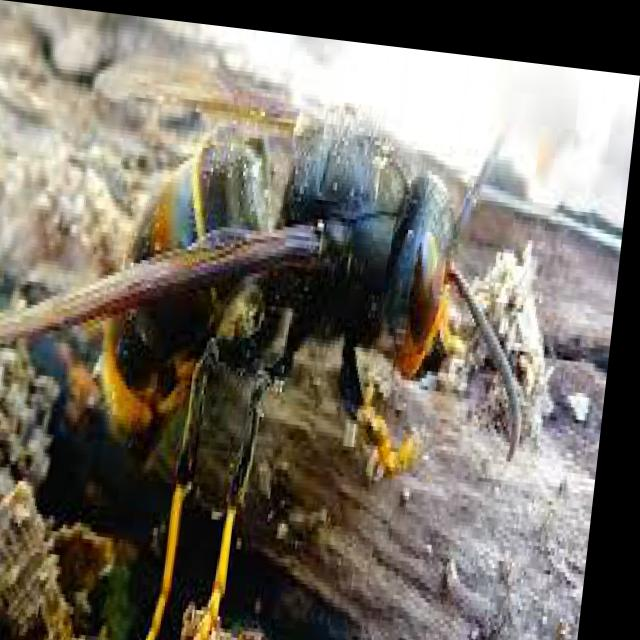Vespa Velutina: (0, 30, 565, 639)
